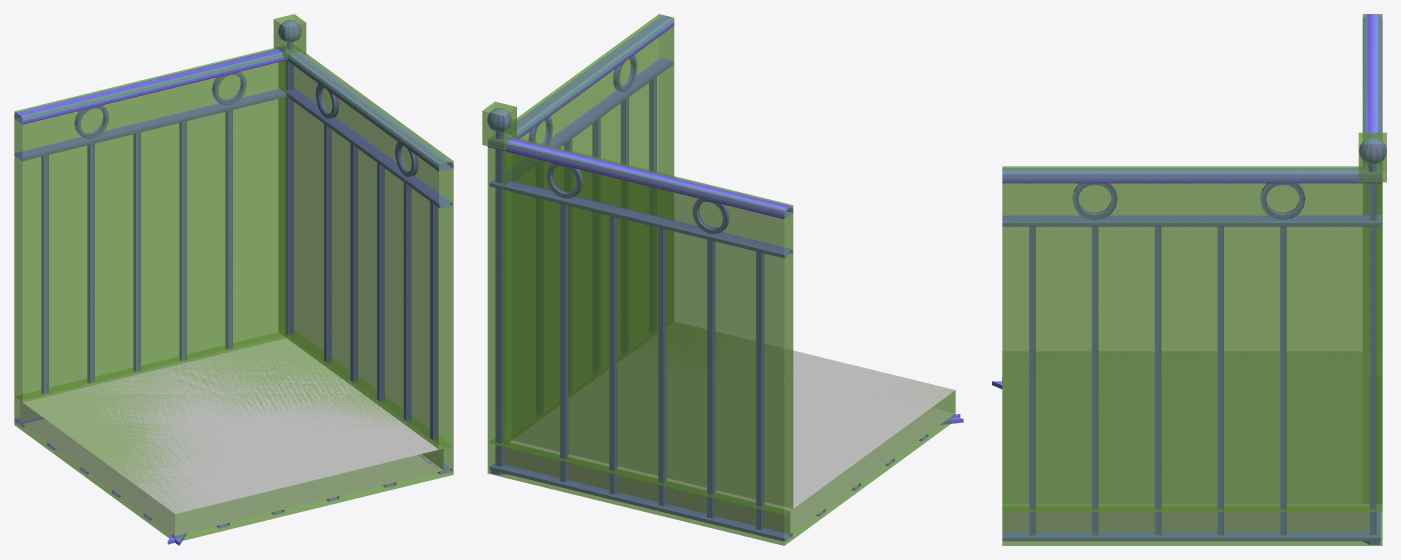
File: F_md_Balcony_L_90cnr_01.fbx
3 views of the same model, side by side, from view 1: azimuth 30°, elevation 25°; view 2: azimuth 150°, elevation 25°; view 3: azimuth 270°, elevation 25° (orthographic). The views are drawn at different scales.
Visible parts, largest first — view 1: F_md_Balcony_L_90cnr_01_LOD0, F_md_Balcony_L_90cnr_01_col_02, F_md_Balcony_L_90cnr_01_col_01, F_md_Balcony_L_90cnr_01_col_03, F_md_Balcony_L_90cnr_01_col_04; view 2: F_md_Balcony_L_90cnr_01_col_02, F_md_Balcony_L_90cnr_01_LOD0, F_md_Balcony_L_90cnr_01_col_01, F_md_Balcony_L_90cnr_01_col_03, F_md_Balcony_L_90cnr_01_col_04; view 3: F_md_Balcony_L_90cnr_01_col_01, F_md_Balcony_L_90cnr_01_LOD0, F_md_Balcony_L_90cnr_01_col_03, F_md_Balcony_L_90cnr_01_col_02, F_md_Balcony_L_90cnr_01_col_04.
Boxes of the visible parts, x1,y1,x2,y2 form: F_md_Balcony_L_90cnr_01_LOD0: (14, 20, 453, 545); F_md_Balcony_L_90cnr_01_col_02: (14, 47, 286, 402); F_md_Balcony_L_90cnr_01_col_01: (279, 44, 453, 449); F_md_Balcony_L_90cnr_01_col_03: (14, 330, 453, 540); F_md_Balcony_L_90cnr_01_col_04: (273, 14, 306, 59); F_md_Balcony_L_90cnr_01_col_02: (503, 137, 793, 514); F_md_Balcony_L_90cnr_01_LOD0: (487, 15, 963, 541); F_md_Balcony_L_90cnr_01_col_01: (487, 14, 674, 446); F_md_Balcony_L_90cnr_01_col_03: (487, 381, 955, 545); F_md_Balcony_L_90cnr_01_col_04: (482, 101, 516, 150); F_md_Balcony_L_90cnr_01_col_01: (1002, 166, 1382, 511); F_md_Balcony_L_90cnr_01_LOD0: (992, 14, 1386, 544); F_md_Balcony_L_90cnr_01_col_03: (1002, 504, 1382, 545); F_md_Balcony_L_90cnr_01_col_02: (1362, 14, 1382, 350); F_md_Balcony_L_90cnr_01_col_04: (1358, 132, 1386, 182).
Size of what is drawn, in the model's own units: 104 by 117 by 104.
